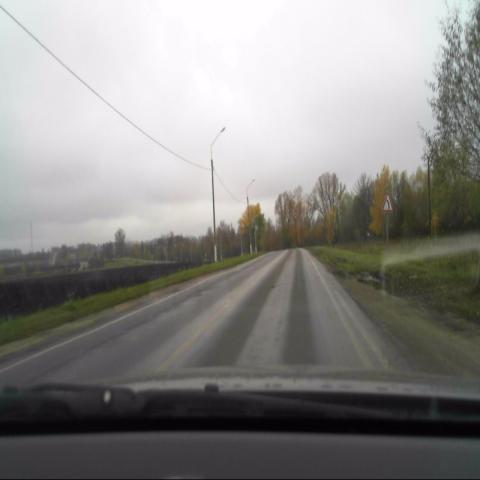1_11_1: (382, 191, 393, 212)
